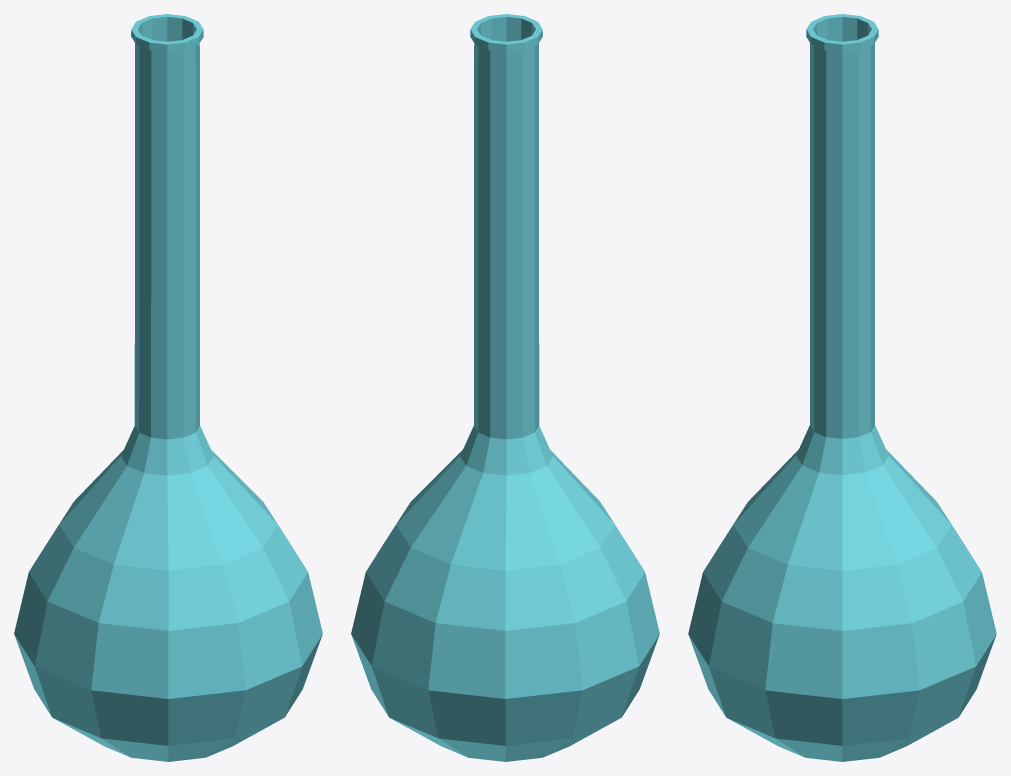
The model's file is SM_Flask_01_A.glb.
The picture shows the model from 3 angles, left to right: view 1: azimuth 30°, elevation 25°; view 2: azimuth 150°, elevation 25°; view 3: azimuth 270°, elevation 25°; orthographic projection.
Visible parts, largest first — view 1: SM_Flask_01_A; view 2: SM_Flask_01_A; view 3: SM_Flask_01_A.
Boxes of the visible parts, x1,y1,x2,y2 form: SM_Flask_01_A: (14,14,322,761); SM_Flask_01_A: (351,14,659,761); SM_Flask_01_A: (688,14,996,761).
Bounding box in the file's own units: 0.1306 × 0.3272 × 0.1306.
